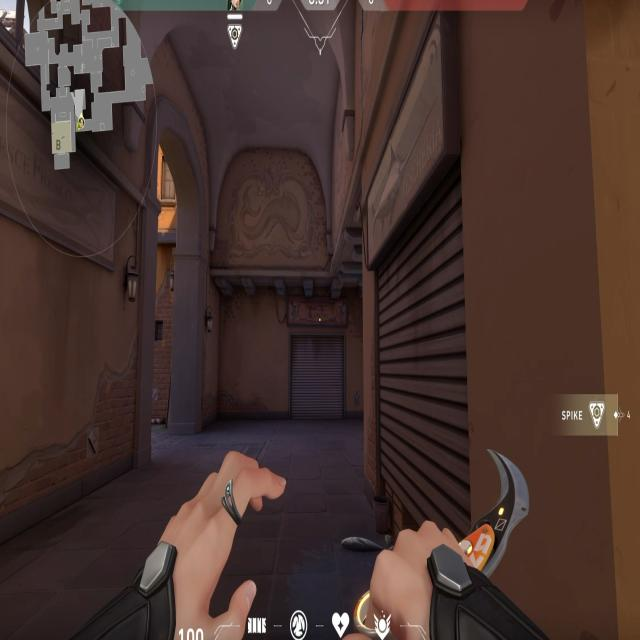B_Main_Corner: (337, 155, 491, 556)
